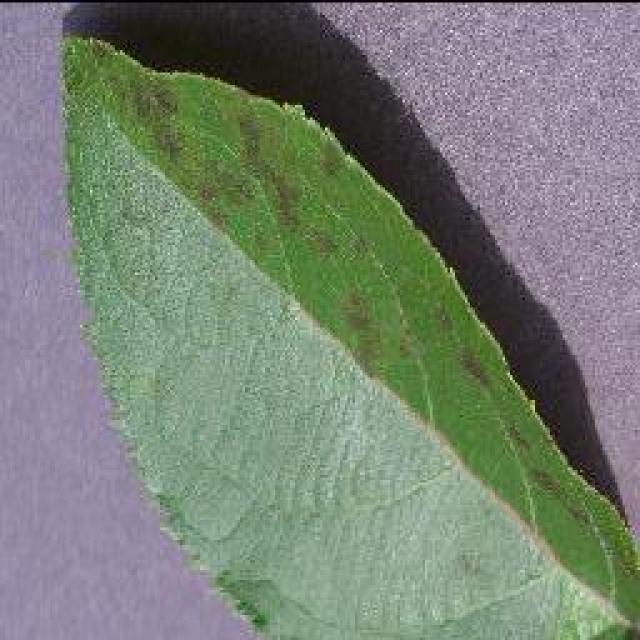apple scab disease: (58, 28, 638, 638)
